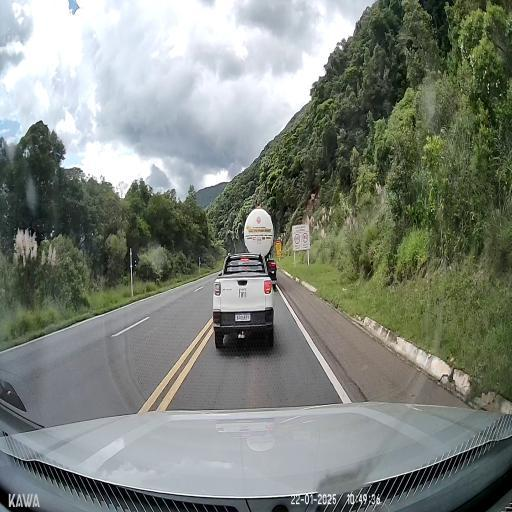R-19: (294, 234, 300, 244), (302, 233, 308, 242)
